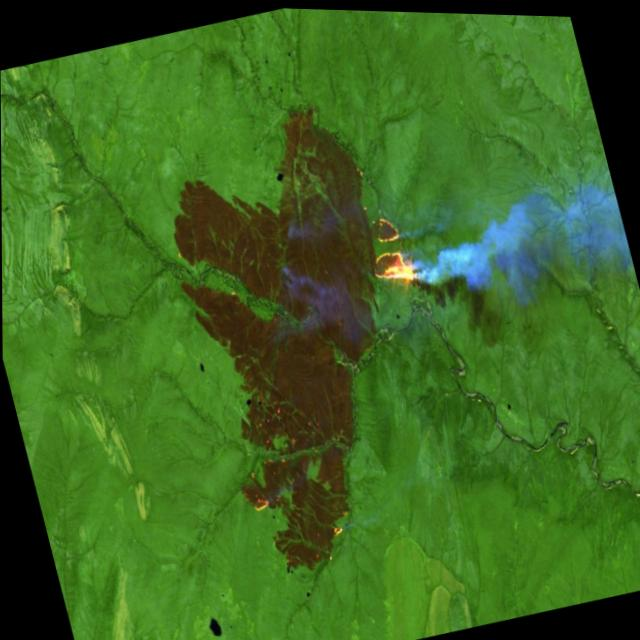fire: (355, 199, 427, 301), (242, 476, 288, 519)
